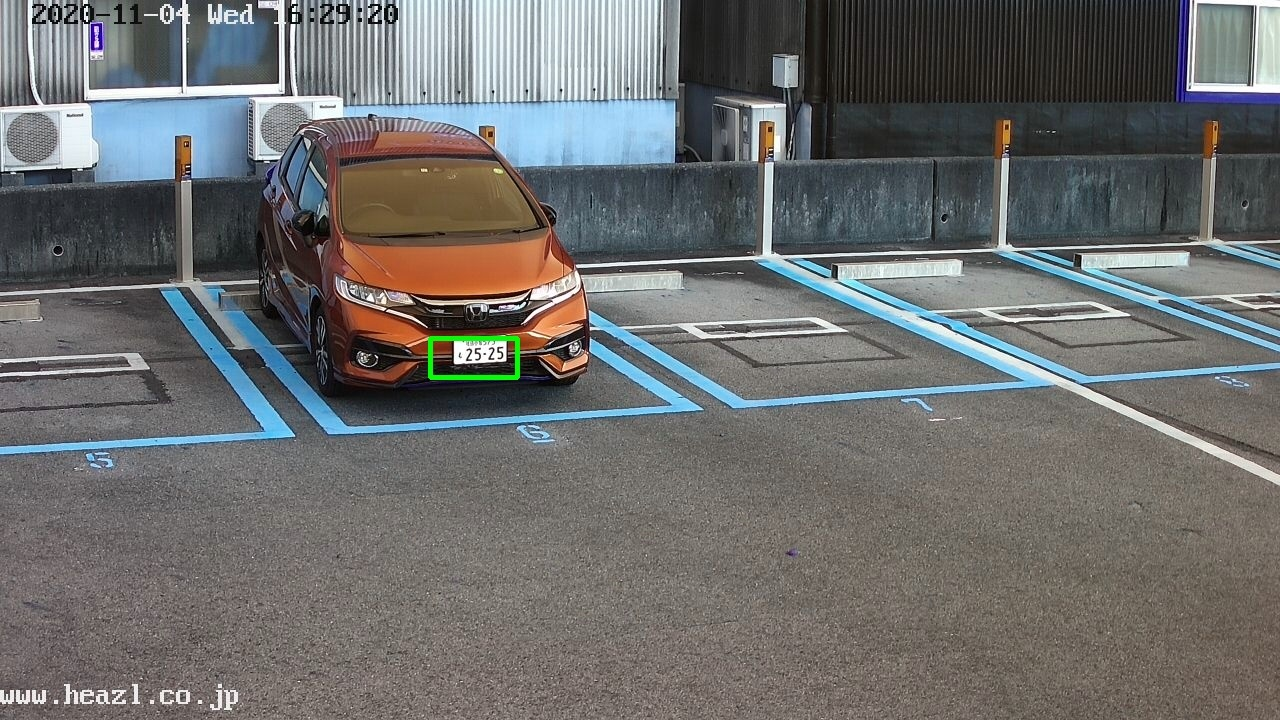number_plate: (454, 335, 506, 363)
